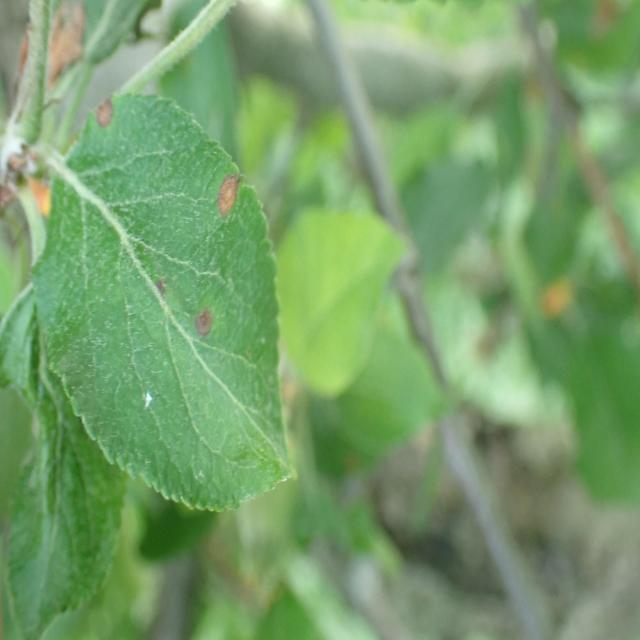frog-eye-leaf-spot: (30, 90, 296, 513)
